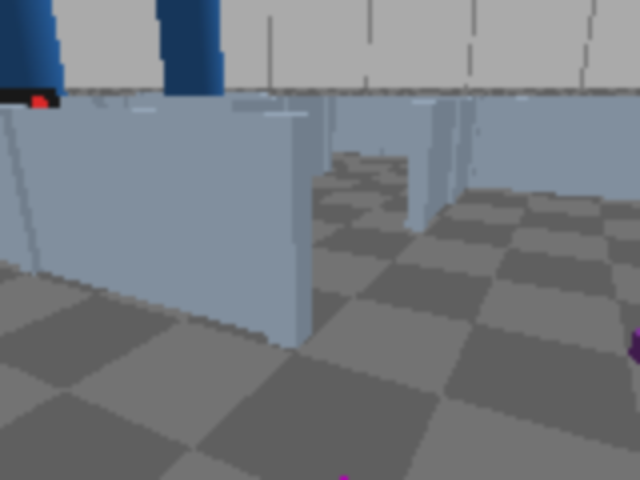goal_zone: (129, 475, 638, 478)
